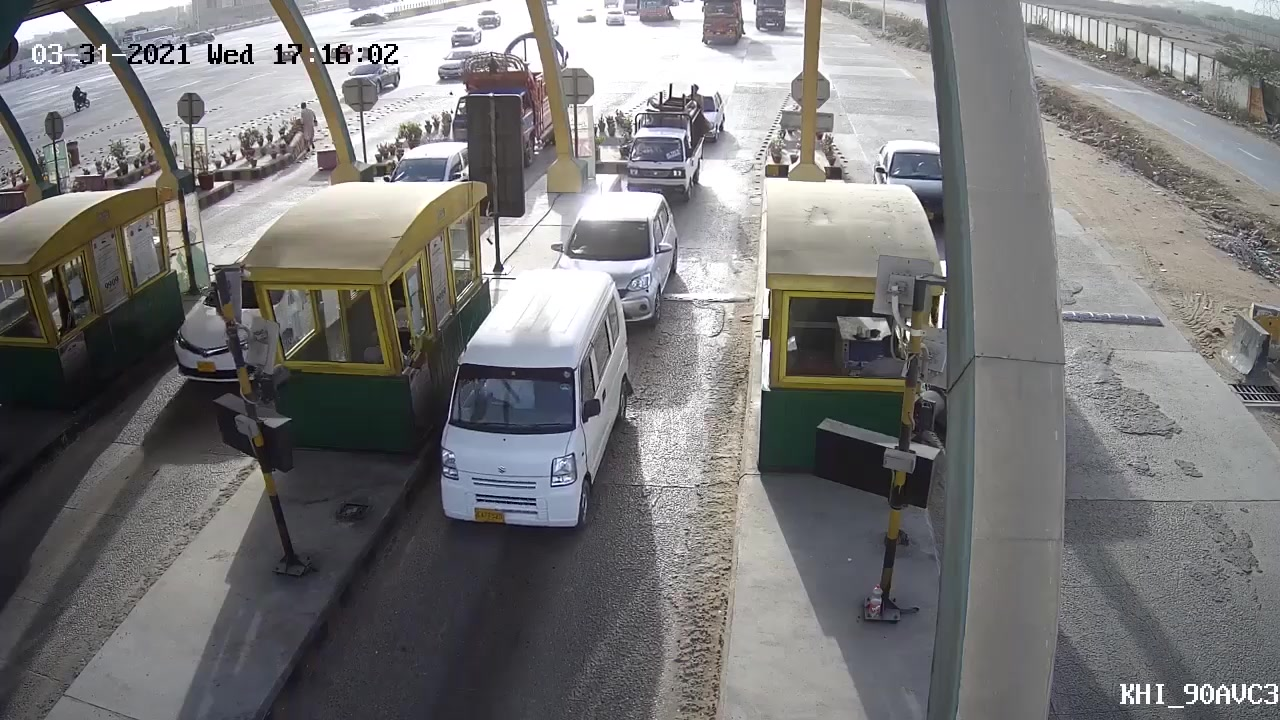F1: (421, 275, 625, 531)
